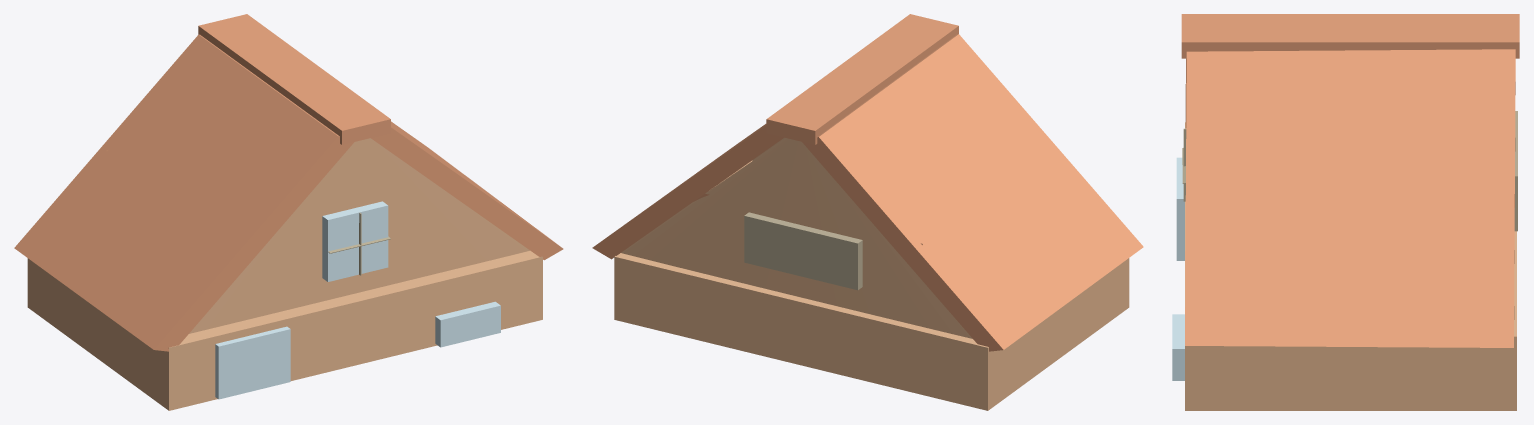
The model's file is house.gltf.
The picture shows the model from 3 angles, left to right: view 1: azimuth 30°, elevation 25°; view 2: azimuth 150°, elevation 25°; view 3: azimuth 270°, elevation 25°; orthographic projection. The views are drawn at different scales.
Parts seen in each view (by area): view 1: Cone; view 2: Cone; view 3: Cone.
Part boxes in pixels (<box>): Cone: <box>14,14,563,410</box>; Cone: <box>592,14,1143,410</box>; Cone: <box>1172,14,1519,410</box>.
Bounding box in the file's own units: 2.06 × 1.14 × 1.28.
